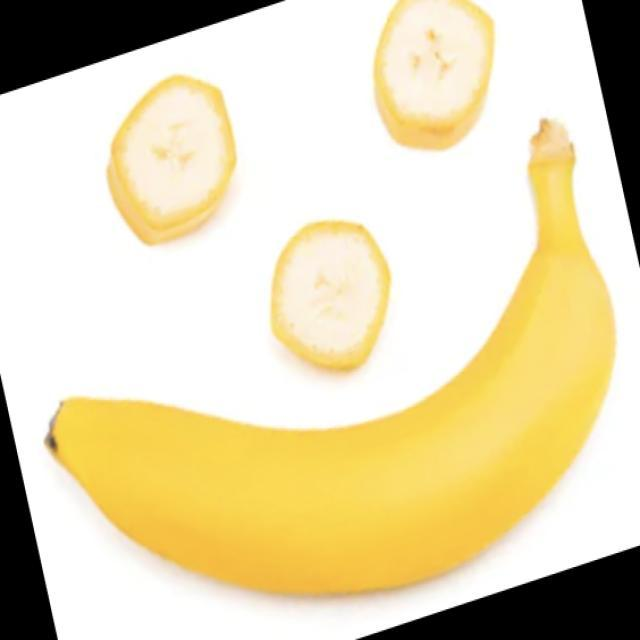Apple: (105, 73, 237, 245), (269, 218, 391, 372), (372, 0, 495, 150)
Banana: (44, 116, 617, 597)
